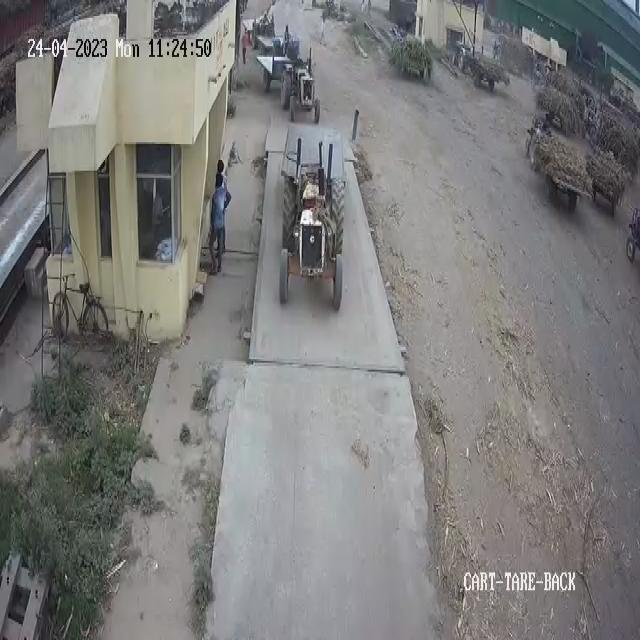Tratores - v5 YOLO V8L 2024-11-13: (278, 156, 344, 320), (275, 39, 324, 128)
